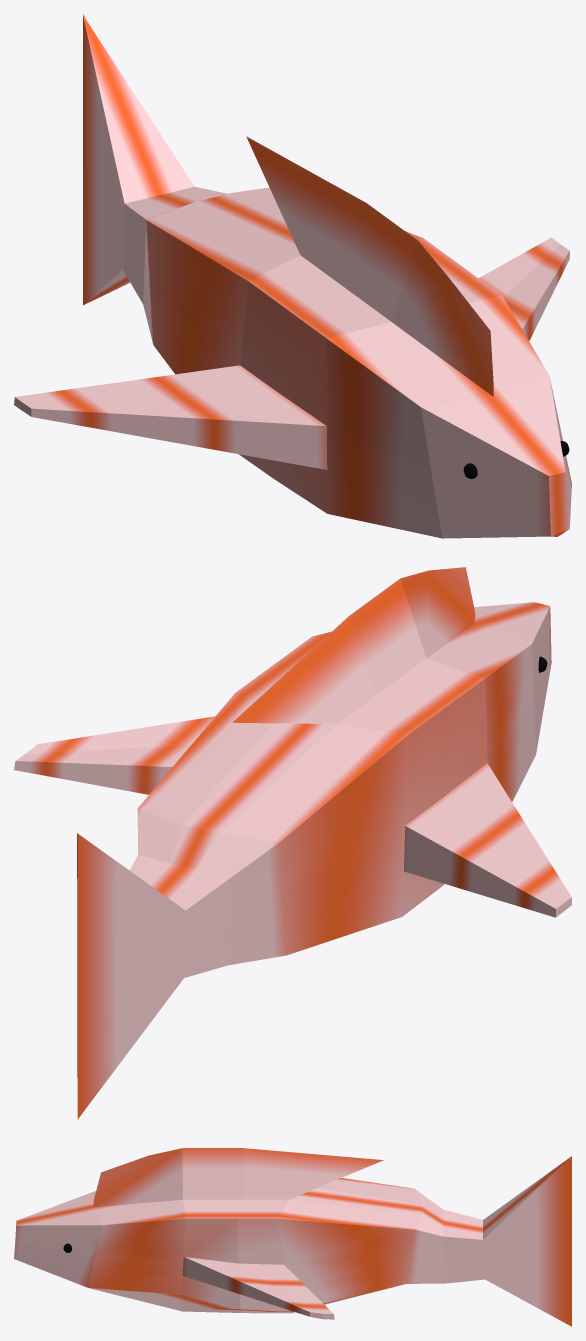
Rendered from Fish2.glb.
3 views of the same model, one above another, from view 1: azimuth 30°, elevation 25°; view 2: azimuth 150°, elevation 25°; view 3: azimuth 270°, elevation 25° (orthographic). The views are drawn at different scales.
Parts seen in each view (by area): view 1: fISH; view 2: fISH; view 3: fISH.
Boxes of the visible parts, bbox=[...] form: fISH: bbox=[14, 14, 571, 538]; fISH: bbox=[14, 567, 571, 1119]; fISH: bbox=[14, 1148, 571, 1326].
Size of the model in its own units: 0.3468 by 0.1865 by 0.5245.
Materials: 2 (2 with a texture image).
